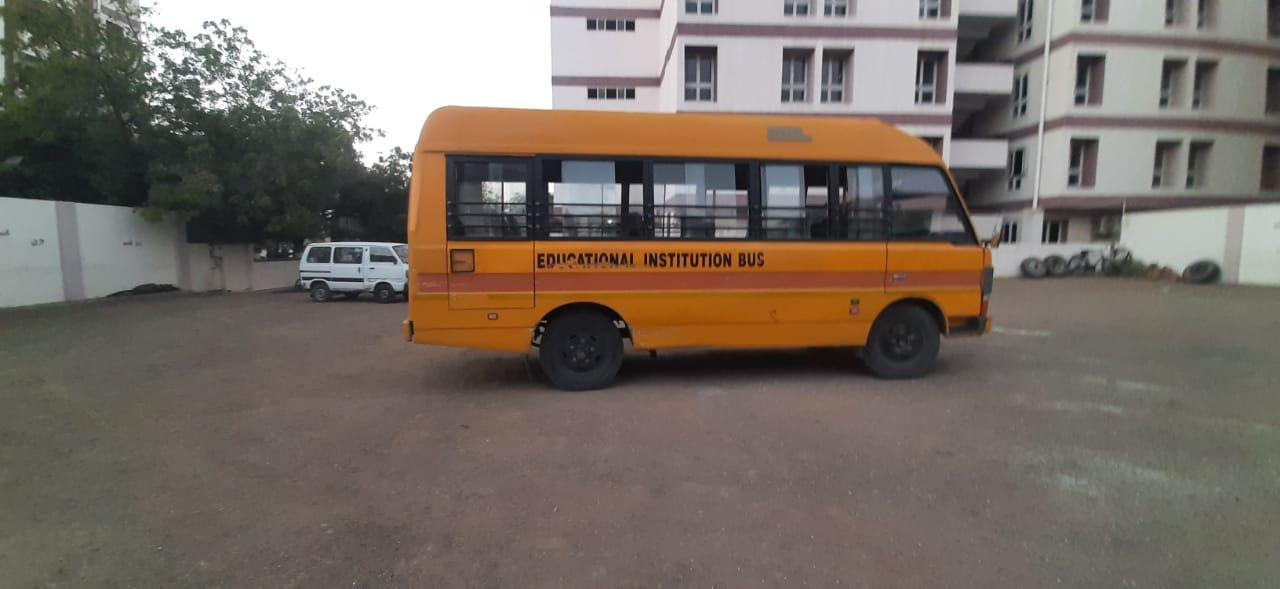Bus: (387, 82, 1017, 401)
